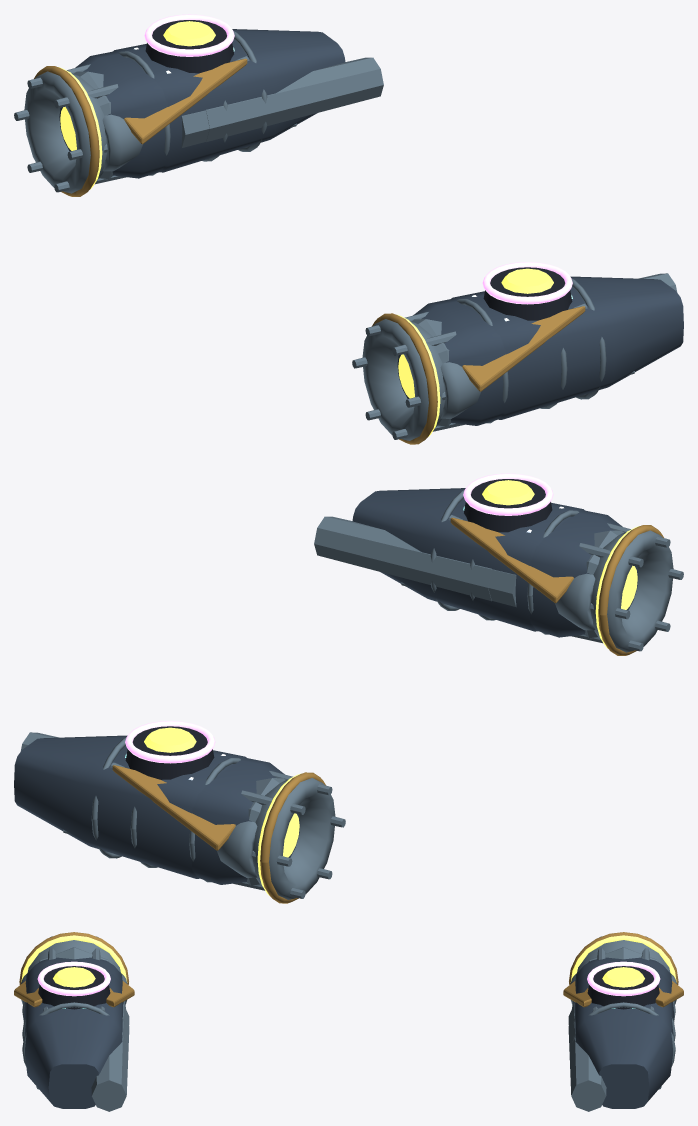
Rendered from engine.glb.
The picture shows the model from 3 angles, top to bottom: view 1: azimuth 30°, elevation 25°; view 2: azimuth 150°, elevation 25°; view 3: azimuth 270°, elevation 25°; orthographic projection. The views are drawn at different scales.
Parts seen in each view (by area): view 1: e_twin Fitting gunmetal, e_nova Brushed fitting edges, e_twin Brushed fitting edges, e_nova Fitting gunmetal, e_nova Champagne gold edging, e_fusion Machined graphite, e_fusion e_fusion emitter, e_ion Brushed fitting edges, e_fusion Fusion amber core, e_nova e_nova emitter, e_fusion Brushed fitting edges; view 2: e_twin Fitting gunmetal, e_nova Brushed fitting edges, e_twin Brushed fitting edges, e_nova Fitting gunmetal, e_nova Champagne gold edging, e_fusion Machined graphite, e_fusion e_fusion emitter, e_ion Brushed fitting edges, e_fusion Fusion amber core, e_nova e_nova emitter, e_fusion Brushed fitting edges; view 3: e_twin Fitting gunmetal, e_twin Brushed fitting edges, e_fusion Machined graphite, e_nova Champagne gold edging, e_nova Brushed fitting edges, e_fusion e_fusion emitter, e_nova e_nova emitter, e_nova Fitting gunmetal, e_fusion Fusion amber core, e_ion Brushed fitting edges, e_fusion Brushed fitting edges.
Boxes of the visible parts, <box> form: e_twin Fitting gunmetal: <box>112,29,683,419</box>; e_nova Brushed fitting edges: <box>14,64,464,440</box>; e_twin Brushed fitting edges: <box>102,56,677,418</box>; e_nova Fitting gunmetal: <box>59,52,505,425</box>; e_nova Champagne gold edging: <box>34,58,585,444</box>; e_fusion Machined graphite: <box>145,20,572,320</box>; e_fusion e_fusion emitter: <box>144,14,572,304</box>; e_ion Brushed fitting edges: <box>118,31,606,423</box>; e_fusion Fusion amber core: <box>163,21,553,293</box>; e_nova e_nova emitter: <box>58,67,440,436</box>; e_fusion Brushed fitting edges: <box>74,71,634,426</box>; e_twin Fitting gunmetal: <box>14,488,585,878</box>; e_nova Brushed fitting edges: <box>233,523,683,899</box>; e_twin Brushed fitting edges: <box>20,515,595,877</box>; e_nova Fitting gunmetal: <box>191,511,638,884</box>; e_nova Champagne gold edging: <box>112,517,663,903</box>; e_fusion Machined graphite: <box>125,479,552,779</box>; e_fusion e_fusion emitter: <box>125,473,553,763</box>; e_ion Brushed fitting edges: <box>91,490,579,882</box>; e_fusion Fusion amber core: <box>144,480,534,752</box>; e_nova e_nova emitter: <box>257,526,639,895</box>; e_fusion Brushed fitting edges: <box>63,530,623,885</box>; e_twin Fitting gunmetal: <box>24,973,673,1108</box>; e_twin Brushed fitting edges: <box>21,972,676,1111</box>; e_fusion Machined graphite: <box>38,966,659,1009</box>; e_nova Champagne gold edging: <box>14,932,683,1007</box>; e_nova Brushed fitting edges: <box>27,936,670,1024</box>; e_fusion e_fusion emitter: <box>37,961,660,996</box>; e_nova e_nova emitter: <box>21,935,676,982</box>; e_nova Fitting gunmetal: <box>25,957,672,986</box>; e_fusion Fusion amber core: <box>53,967,644,987</box>; e_ion Brushed fitting edges: <box>22,1001,675,1066</box>; e_fusion Brushed fitting edges: <box>36,947,661,1089</box>.
Bounding box in the file's own units: 15.81 × 6.45 × 36.58.
